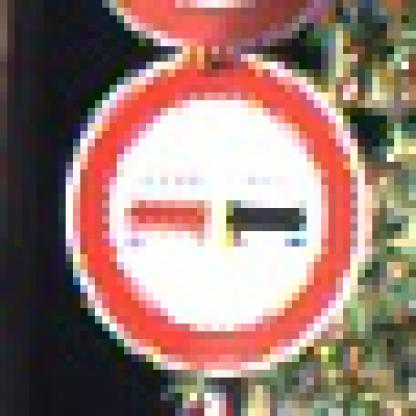No Overtaking: (45, 40, 380, 379)
